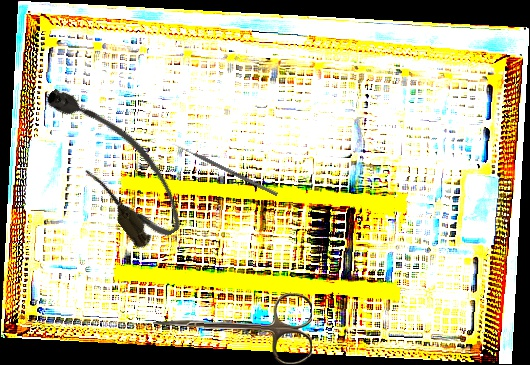Cannula: (35, 66, 194, 256)
Iris Scissors: (152, 290, 313, 365)
Pusher: (171, 141, 279, 197)
